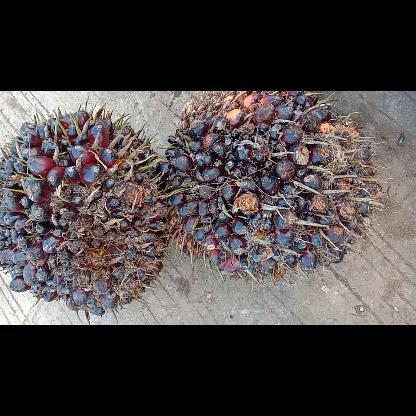TBS mentah: (160, 92, 380, 274), (0, 108, 167, 314)
